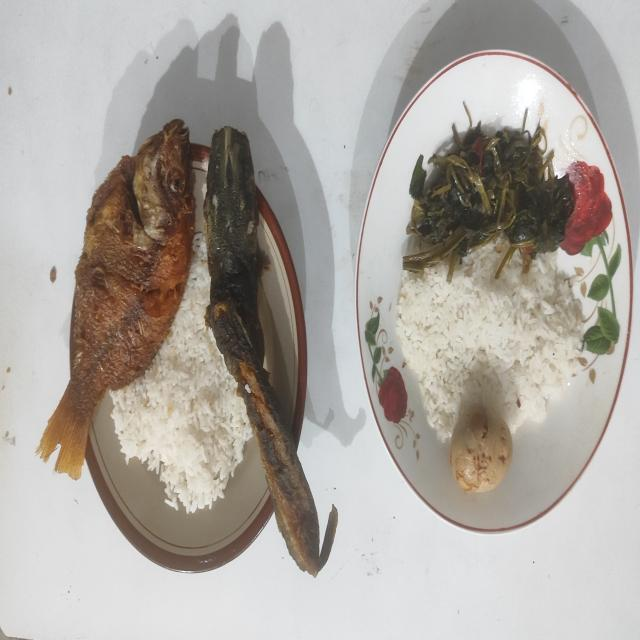ikan_mujair: (36, 120, 195, 480)
nasi_putih: (110, 234, 252, 511), (396, 235, 580, 440)
tumis_kangkung: (404, 109, 576, 278)
